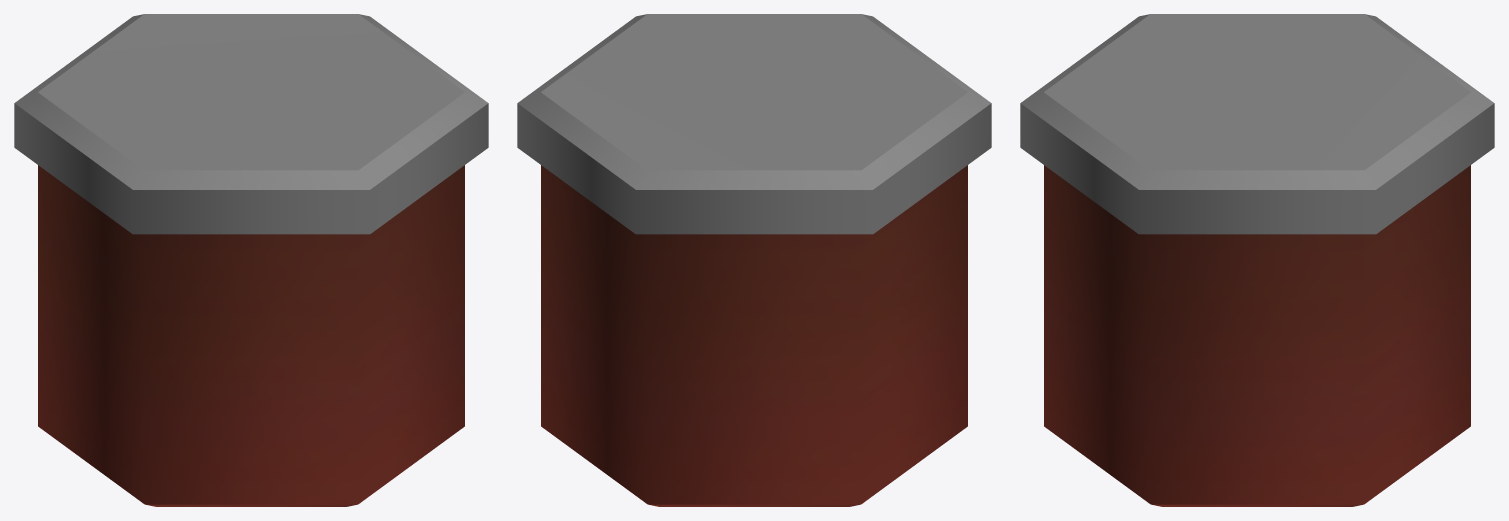
The model's file is Jar_2_L.fbx.
The picture shows the model from 3 angles, left to right: view 1: azimuth 30°, elevation 25°; view 2: azimuth 150°, elevation 25°; view 3: azimuth 270°, elevation 25°; orthographic projection.
Visible parts, largest first — view 1: Jar_2_L; view 2: Jar_2_L; view 3: Jar_2_L.
Boxes of the visible parts, x1=… form: Jar_2_L: x1=14, y1=14, x2=488, y2=506; Jar_2_L: x1=517, y1=14, x2=991, y2=506; Jar_2_L: x1=1020, y1=14, x2=1494, y2=506.
Size of the model in its own units: 17.99 by 16.69 by 20.77.
